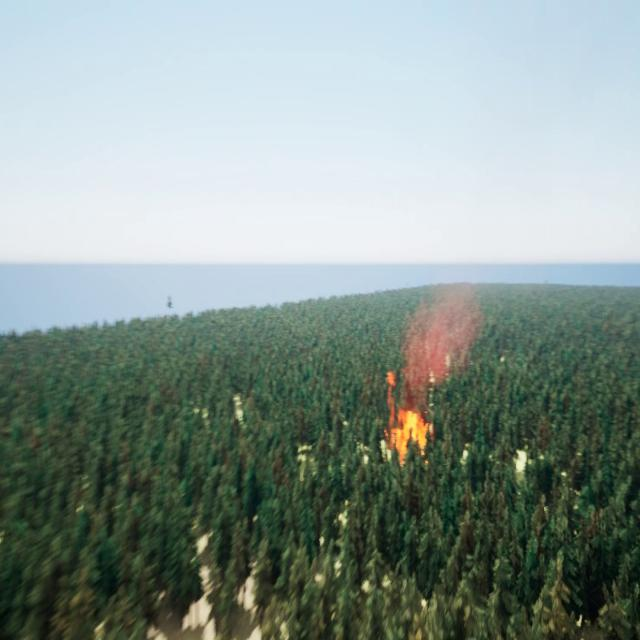fire: (386, 372, 433, 474)
smoke: (403, 276, 483, 401)
